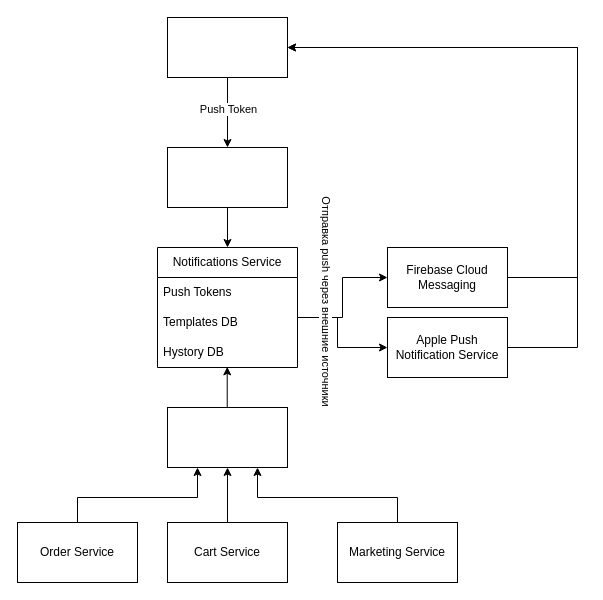
Image size: 603x600. Some labels were removed from this diagram. Here are the shapes that lost their labels. From the top down, the centre of each, then its label:
(227,47): Mobile App
(227,177): API Gateway
(227,437): Kafka
